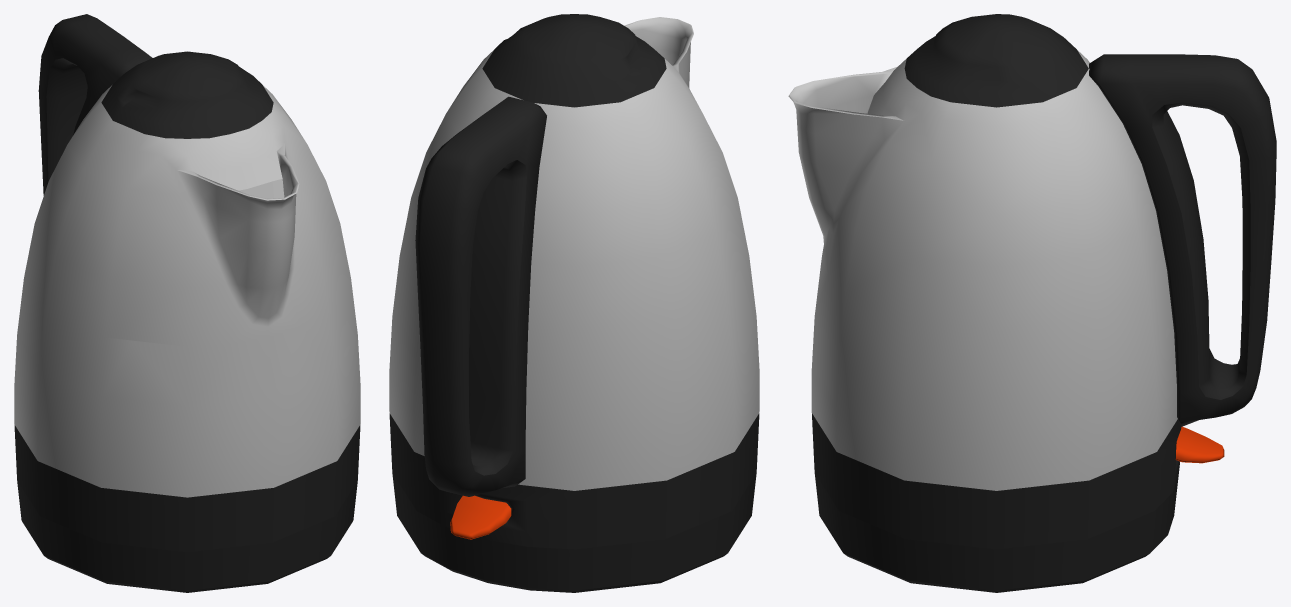
File: Kettle.fbx
3 views of the same model, side by side, from view 1: azimuth 30°, elevation 25°; view 2: azimuth 150°, elevation 25°; view 3: azimuth 270°, elevation 25° (orthographic). The views are drawn at different scales.
Visible parts, largest first — view 1: Kettle; view 2: Kettle; view 3: Kettle.
Part boxes in pixels (<box>): Kettle: <box>14,14,360,592</box>; Kettle: <box>389,14,759,592</box>; Kettle: <box>788,14,1276,592</box>.
Bounding box in the file's own units: 0.2669 × 0.3956 × 0.3516.
